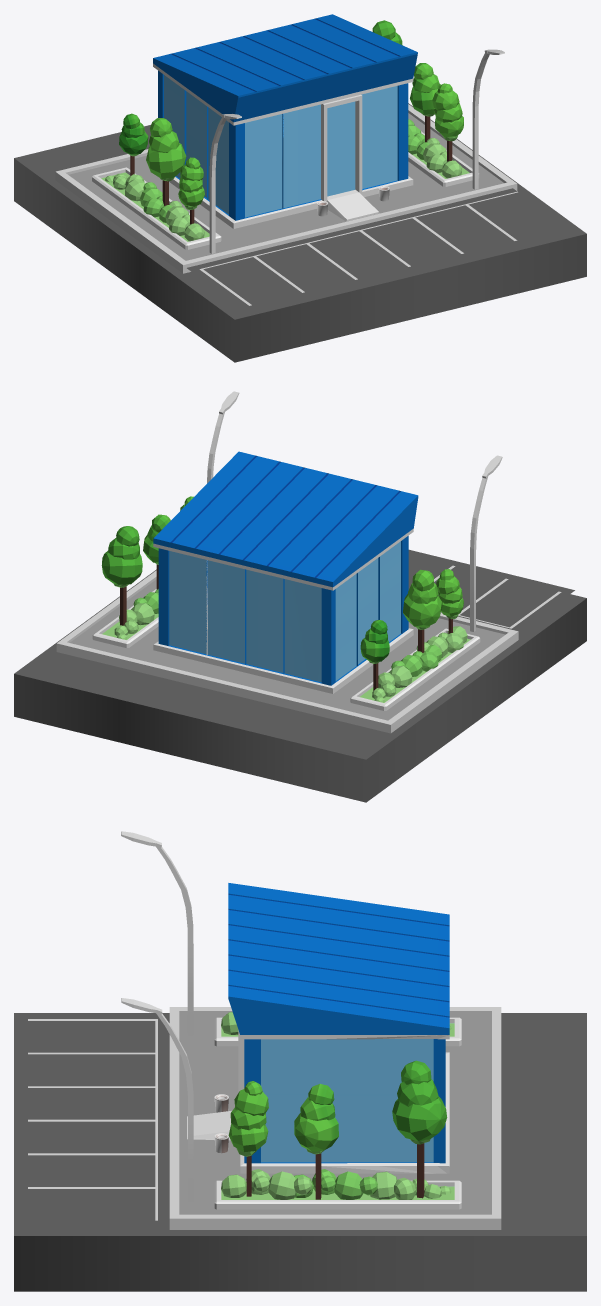
File: shop1.fbx
3 views of the same model, one above another, from view 1: azimuth 30°, elevation 25°; view 2: azimuth 150°, elevation 25°; view 3: azimuth 270°, elevation 25° (orthographic). The views are drawn at different scales.
Parts seen in each view (by area): view 1: Shop; view 2: Shop; view 3: Shop.
Boxes of the visible parts, x1,y1,x2,y2 form: Shop: (14, 14, 586, 362); Shop: (14, 391, 586, 802); Shop: (14, 831, 586, 1291).
Size of the model in its own units: 170 by 94.28 by 185.
1 material, 1 textured.
